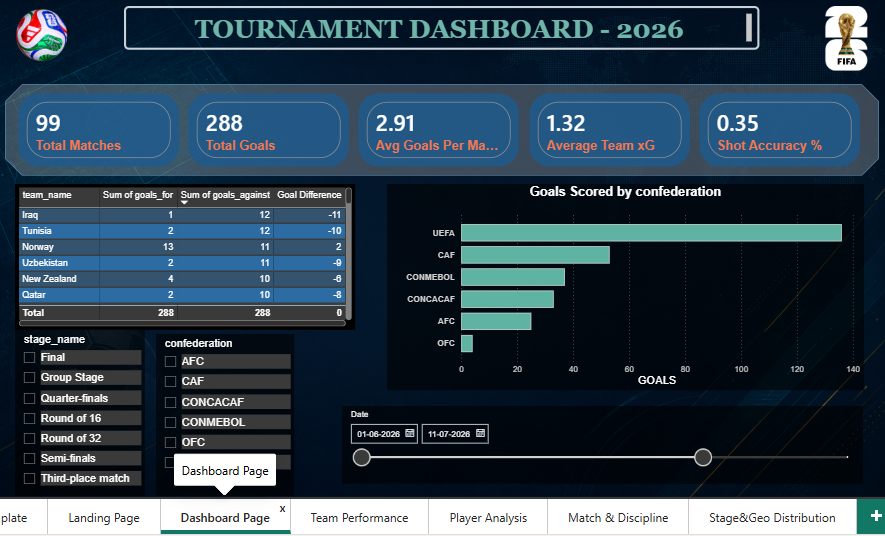

This screenshot's page, from the dashboard's own definition file:
{"tool":"powerbi","page":{"name":"Dashboard Page","canvas":[1280,720],"ordinal":2},"visuals":[{"type":"image","box":[1161.4,10,118.3,93.3],"z":0},{"type":"shape","box":[10.1,122.4,1258.6,132.5],"z":1000},{"type":"image","title":"Navigation","box":[0,10.1,125.3,80.6],"z":2000},{"type":"cardVisual","fields":{"Data":["_Measures.Total Matches"]},"box":[24.5,131,241.9,115.2],"z":3000},{"type":"textbox","box":[181.4,10.1,915,63.3],"z":4000},{"type":"cardVisual","fields":{"Data":["_Measures.Total Goals"]},"box":[269.6,131,241.9,115.2],"z":5000},{"type":"cardVisual","fields":{"Data":["_Measures.Avg Goals Per Match"]},"box":[514.8,131,241.9,115.2],"z":6000},{"type":"cardVisual","fields":{"Data":["_Measures.Avg xG Differential"]},"box":[760,131,241.9,115.2],"z":7000},{"type":"cardVisual","fields":{"Data":["_Measures.Shot Accuracy %"]},"box":[1005.1,131,241.9,115.2],"z":8000},{"type":"clusteredBarChart","title":"Goals Scored by confederation","fields":{"Category":["teams.confederation"],"Y":["Sum(match_team_bridge.goals_for)"]},"box":[560.2,266.4,686.9,296.6],"z":9000},{"type":"tableEx","fields":{"Values":["teams.team_name","Sum(match_team_bridge.goals_for)","Sum(match_team_bridge.goals_against)","_Measures.Goal Difference"]},"box":[24.5,266.4,489.6,210.2],"z":10000},{"type":"slicer","fields":{"Values":["tournament_stages.stage_name"]},"box":[24.5,476.6,187.2,239],"z":11000},{"type":"slicer","fields":{"Values":["teams.confederation"]},"box":[227.5,482.4,198.7,233.3],"z":12000},{"type":"slicer","fields":{"Values":["DateTable.Date"]},"box":[495.4,586.1,750.2,112.3],"z":13000}]}

Visuals, with their boxes on the page's 1280x720 design canvas (x1, y1, x2, y2). These are canvas units, not pixel positions in the 885x536 screenshot, which may show the page scaled, cropped or inside an application window:
image: 1161/10/1280/103
shape: 10/122/1269/255
"Navigation" image: 0/10/125/91
cardVisual - _Measures.Total Matches: 24/131/266/246
textbox: 181/10/1096/73
cardVisual - _Measures.Total Goals: 270/131/512/246
cardVisual - _Measures.Avg Goals Per Match: 515/131/757/246
cardVisual - _Measures.Avg xG Differential: 760/131/1002/246
cardVisual - _Measures.Shot Accuracy %: 1005/131/1247/246
"Goals Scored by confederation" clusteredBarChart: 560/266/1247/563
tableEx - teams.team_name x Sum(match_team_bridge.goals_for): 24/266/514/477
slicer - tournament_stages.stage_name: 24/477/212/716
slicer - teams.confederation: 228/482/426/716
slicer - DateTable.Date: 495/586/1246/698
